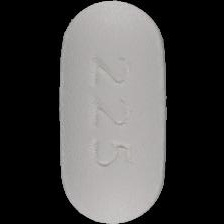0179-0037: (0, 0, 224, 224)
